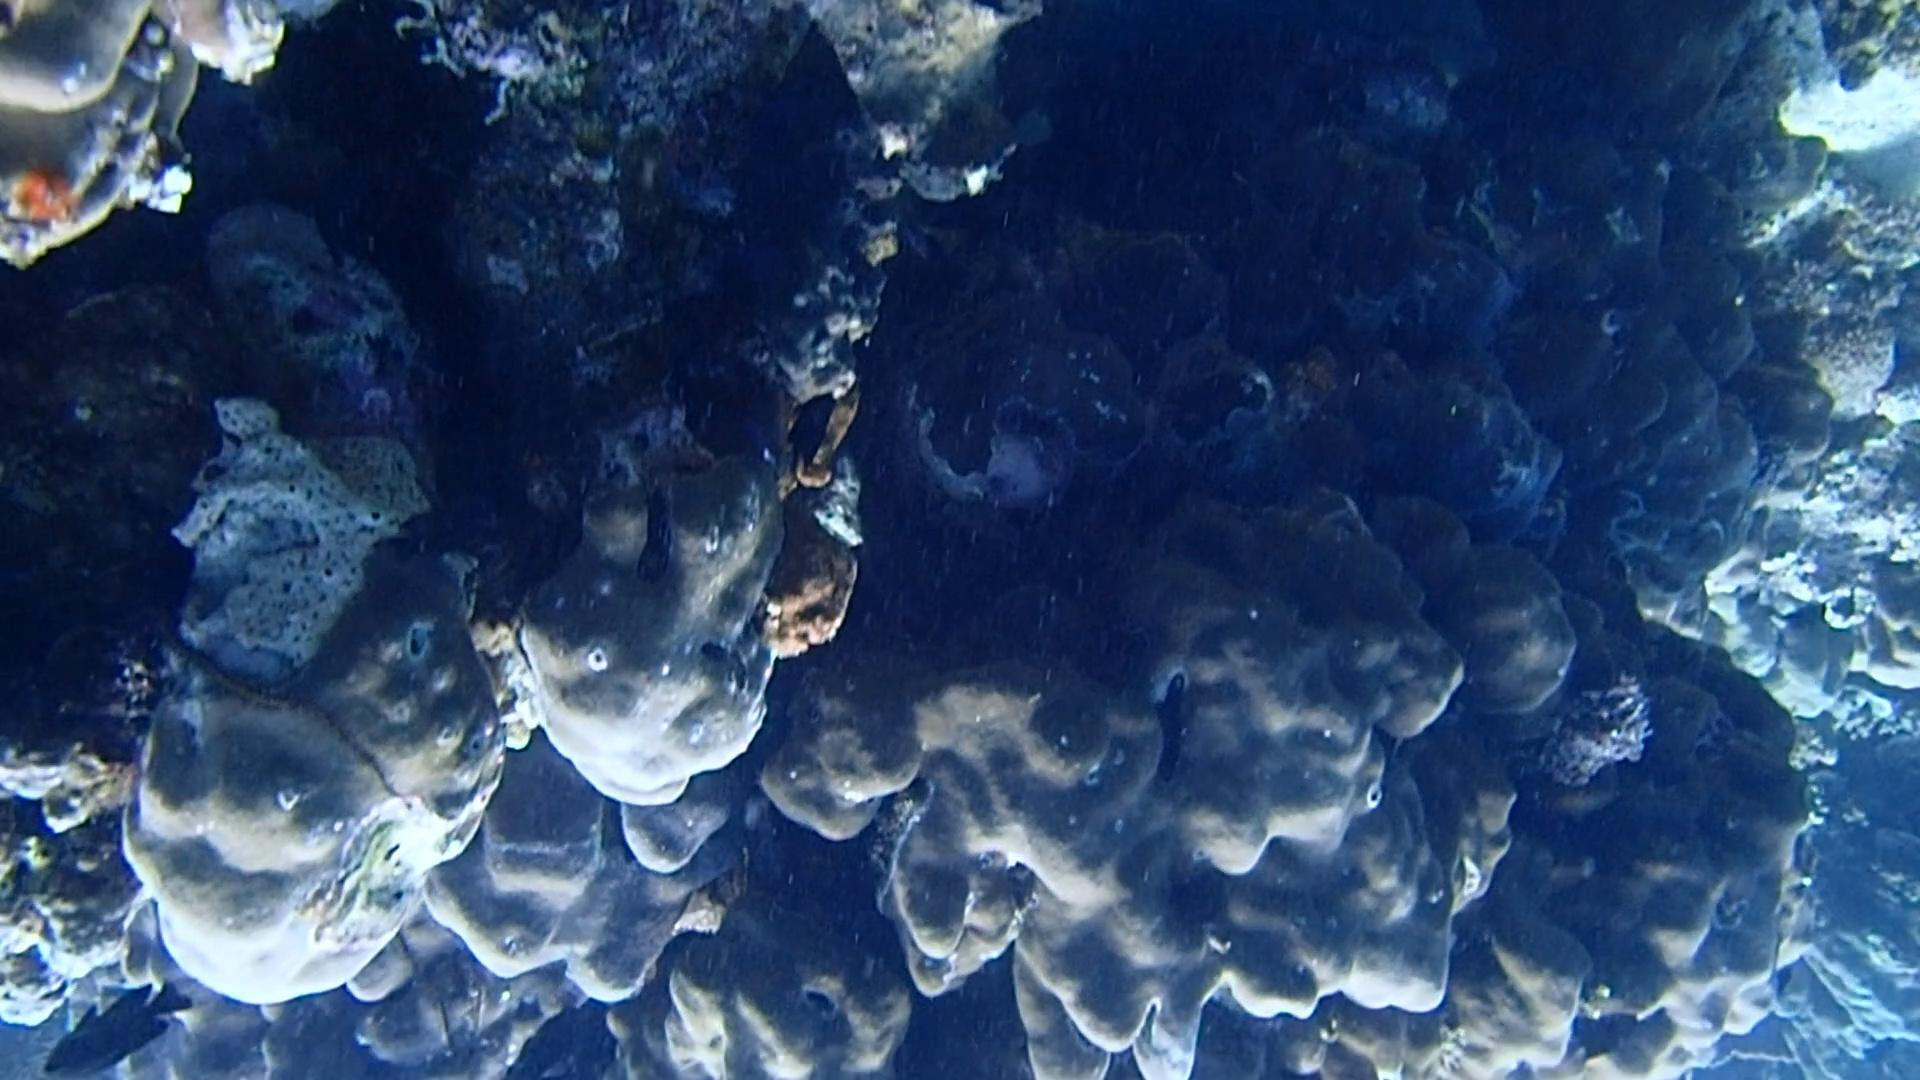Dark Fish: (33, 977, 196, 1080), (1553, 992, 1643, 1069), (773, 381, 839, 479)
